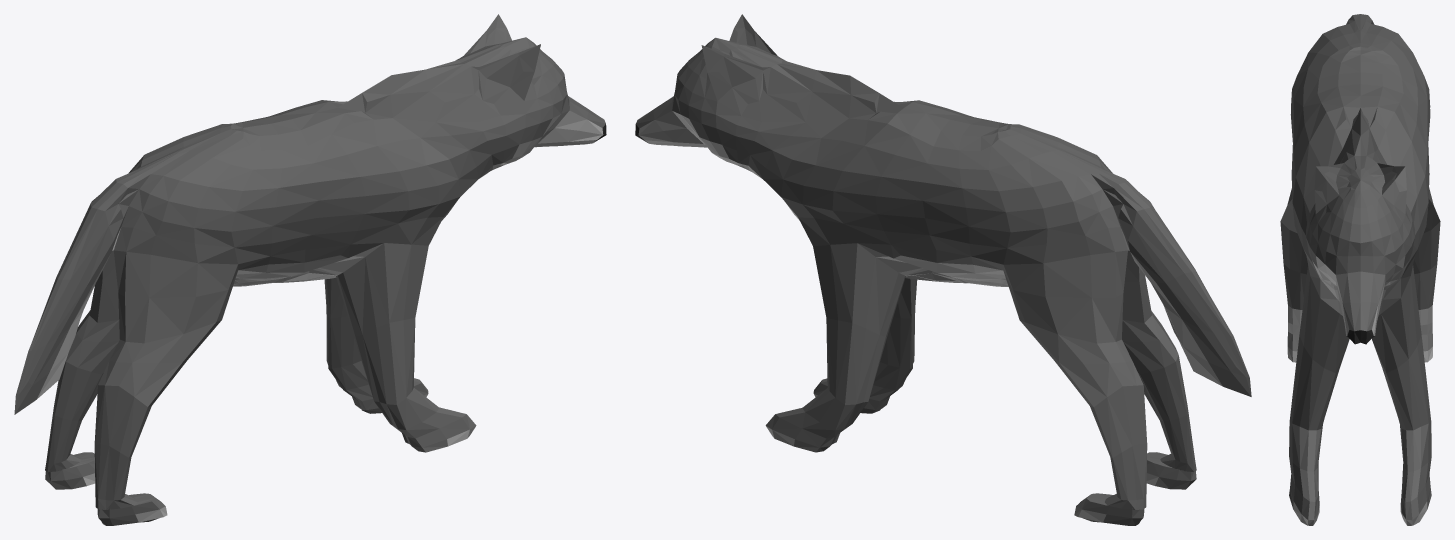
File: WolfAnim.FBX
3 views of the same model, side by side, from view 1: azimuth 30°, elevation 25°; view 2: azimuth 150°, elevation 25°; view 3: azimuth 270°, elevation 25° (orthographic). The views are drawn at different scales.
Parts seen in each view (by area): view 1: Wolf; view 2: Wolf; view 3: Wolf.
Boxes of the visible parts, x1,y1,x2,y2 form: Wolf: [14, 14, 606, 525]; Wolf: [635, 14, 1251, 525]; Wolf: [1280, 14, 1440, 525].
Bounding box in the file's own units: 1.56 × 0.9257 × 0.3338.
